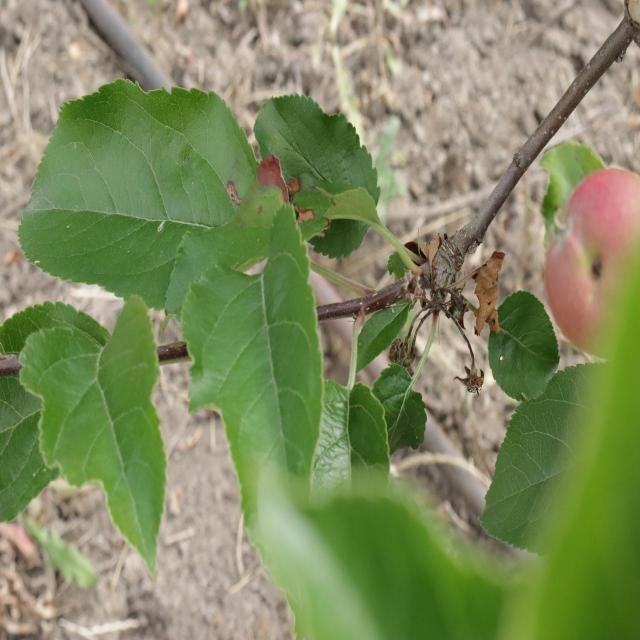-FireBlight-: (421, 249, 526, 388)
